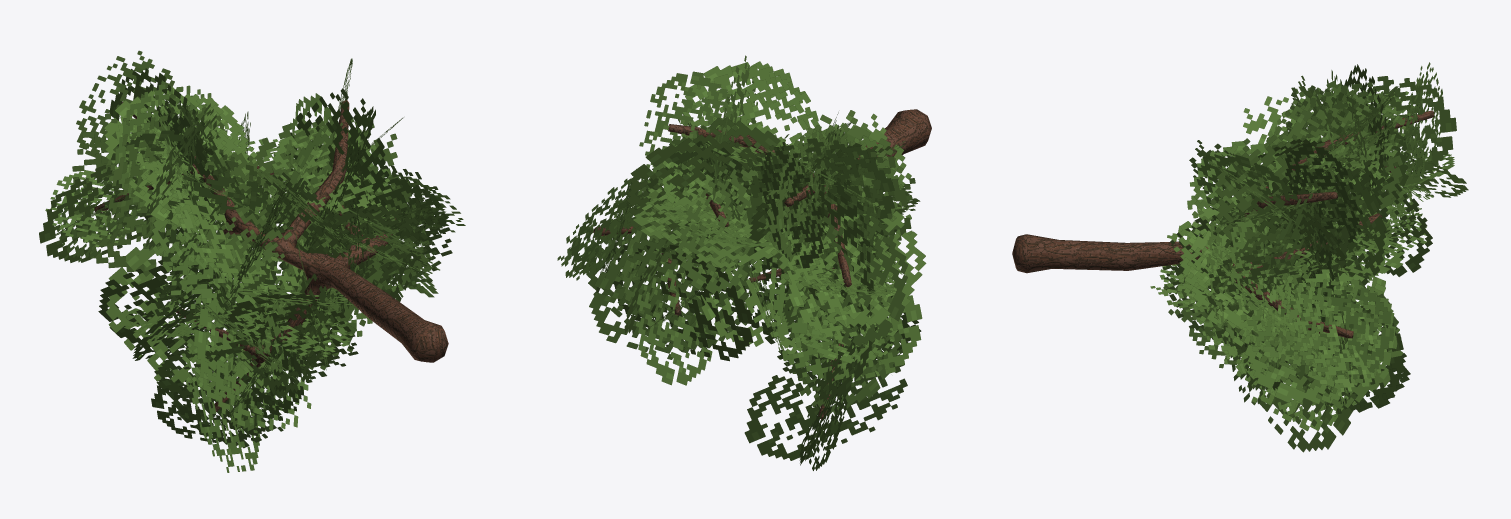
File: Tree1.fbx
The picture shows the model from 3 angles, left to right: view 1: azimuth 30°, elevation 25°; view 2: azimuth 150°, elevation 25°; view 3: azimuth 270°, elevation 25°; orthographic projection. The views are drawn at different scales.
Visible parts, largest first — view 1: Tree1; view 2: Tree1; view 3: Tree1.
Part boxes in pixels (x1=…): Tree1: x1=39, y1=50, x2=465, y2=472; Tree1: x1=557, y1=55, x2=931, y2=470; Tree1: x1=1012, y1=62, x2=1468, y2=452.
Bounding box in the file's own units: 1603 × 1562 × 1588.
